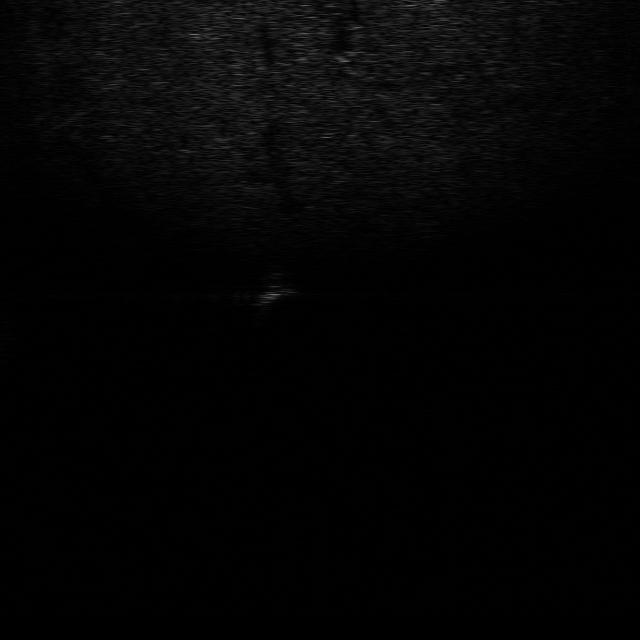human body: (253, 263, 295, 325)
